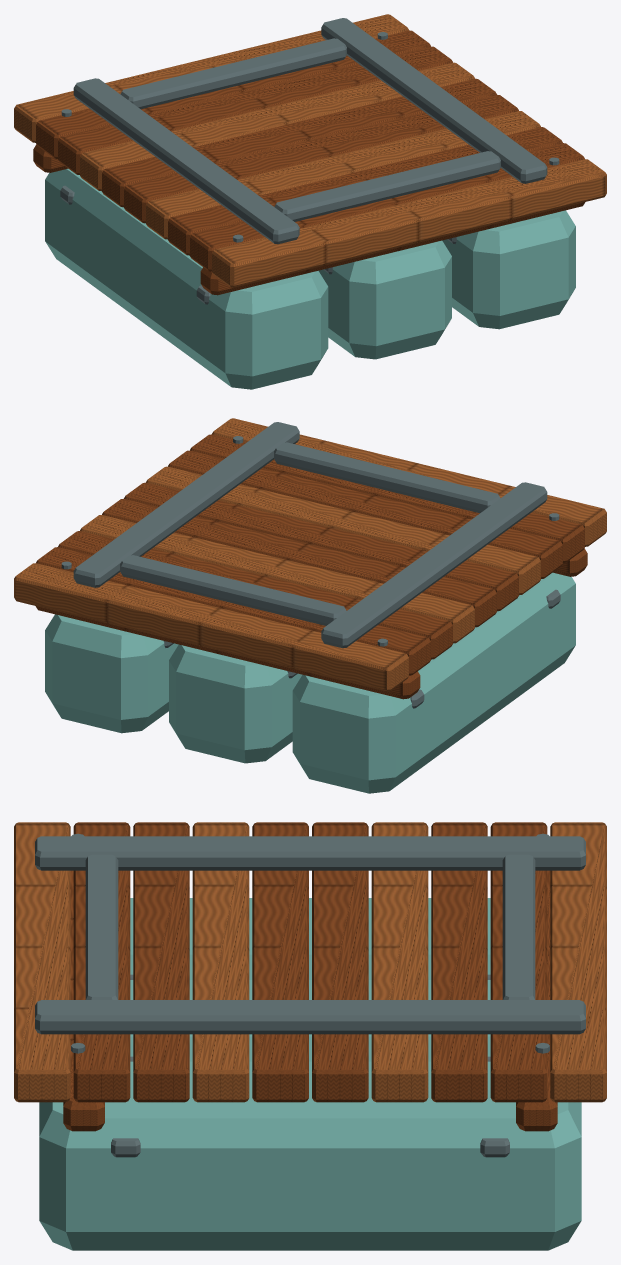
The model's file is ocean-raft-settlement-ocean-raft-settlement-reinforced-d4838fe5__28894.glb.
3 views of the same model, one above another, from view 1: azimuth 30°, elevation 25°; view 2: azimuth 150°, elevation 25°; view 3: azimuth 270°, elevation 25° (orthographic). The views are drawn at different scales.
Visible parts, largest first — view 1: teal, wood, pale, iron; view 2: teal, wood, pale, iron; view 3: teal, wood, pale, iron.
Part boxes in pixels (left/top/right/bottom): teal: left=45, top=168, right=575, bottom=389; wood: left=33, top=30, right=585, bottom=295; pale: left=14, top=14, right=606, bottom=287; iron: left=60, top=18, right=559, bottom=304; teal: left=45, top=572, right=575, bottom=793; wood: left=35, top=434, right=587, bottom=699; pale: left=14, top=418, right=606, bottom=691; iron: left=61, top=422, right=560, bottom=708; teal: left=39, top=898, right=581, bottom=1250; wood: left=63, top=822, right=557, bottom=1131; pale: left=14, top=822, right=606, bottom=1102; iron: left=35, top=833, right=585, bottom=1157.
Bounding box in the file's own units: 1.98 × 0.795 × 1.99.
5 materials, 2 textured.
